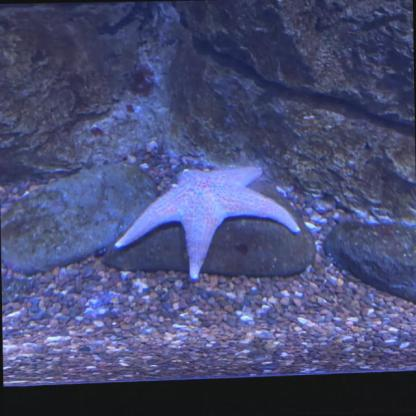starfish: (113, 164, 300, 280)
